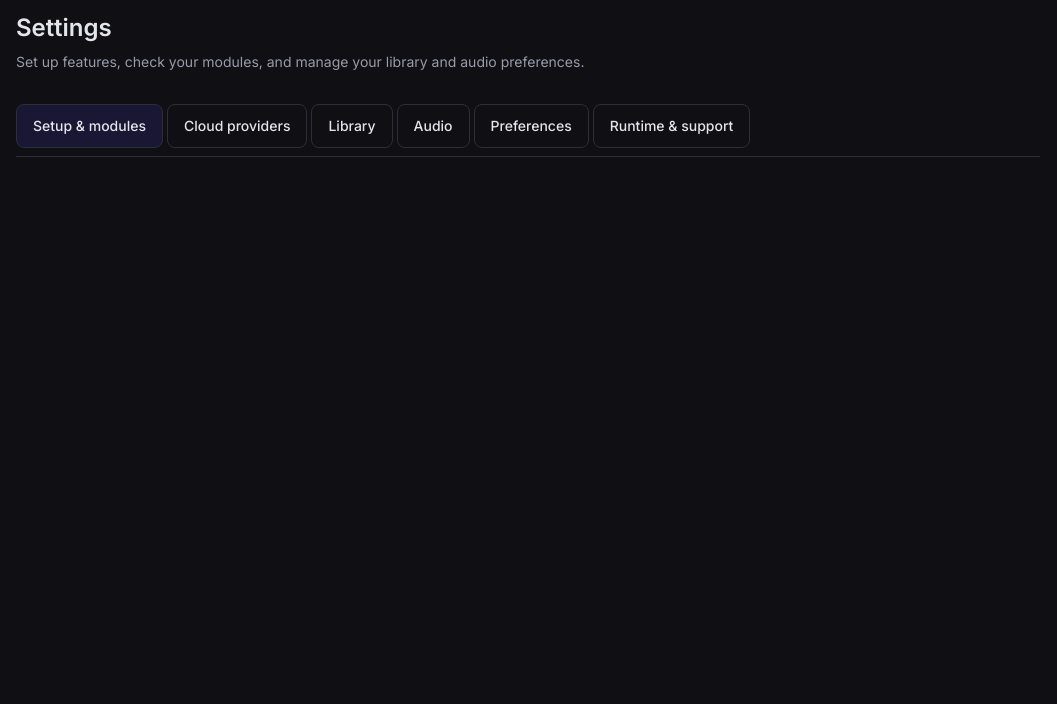
Test case: loads runtime controls only when the support tab is opened and tears them down on navigation
Expected: the text "Preview support report" is not shown
Click the tab "Runtime & support". click: (672, 126)
box: [593,104,750,148]
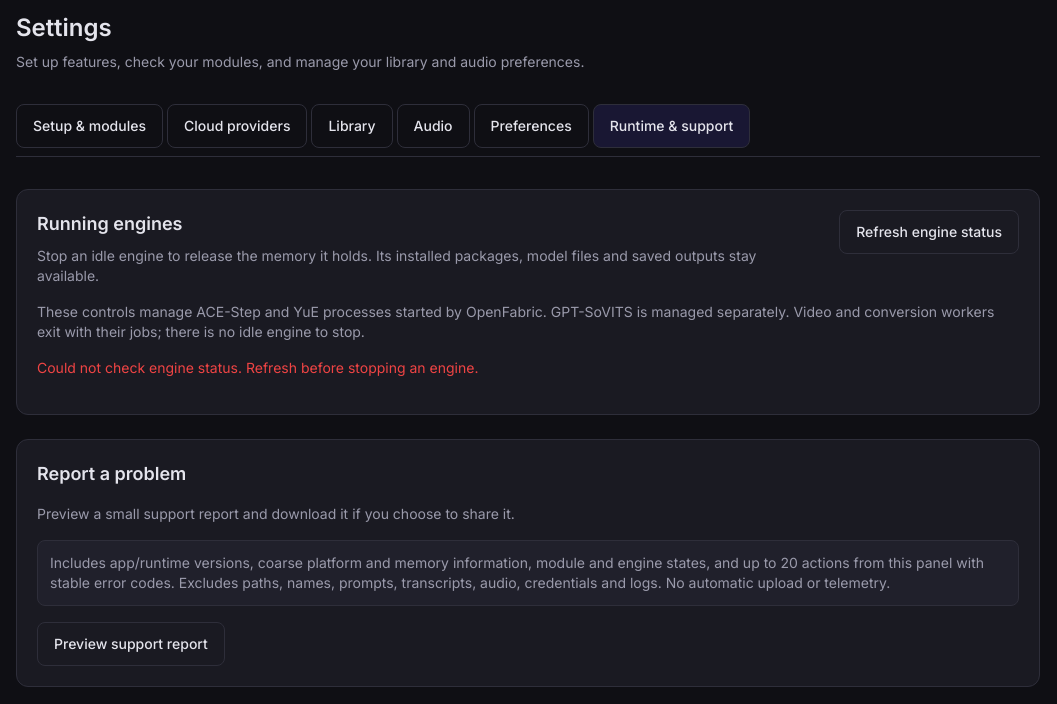
Expected: the text "Preview support report" is shown, [37,622,225,666]
Click the tab "Library". click: (352, 126)
box: [312,104,393,148]
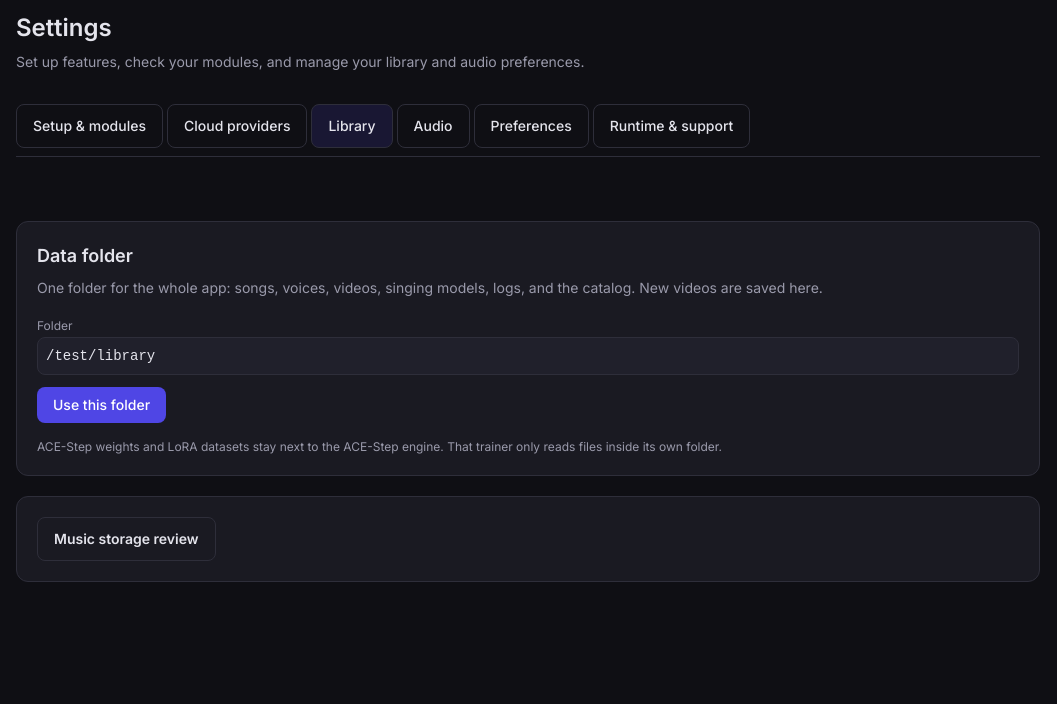
Expected: the text "Preview support report" is gone
